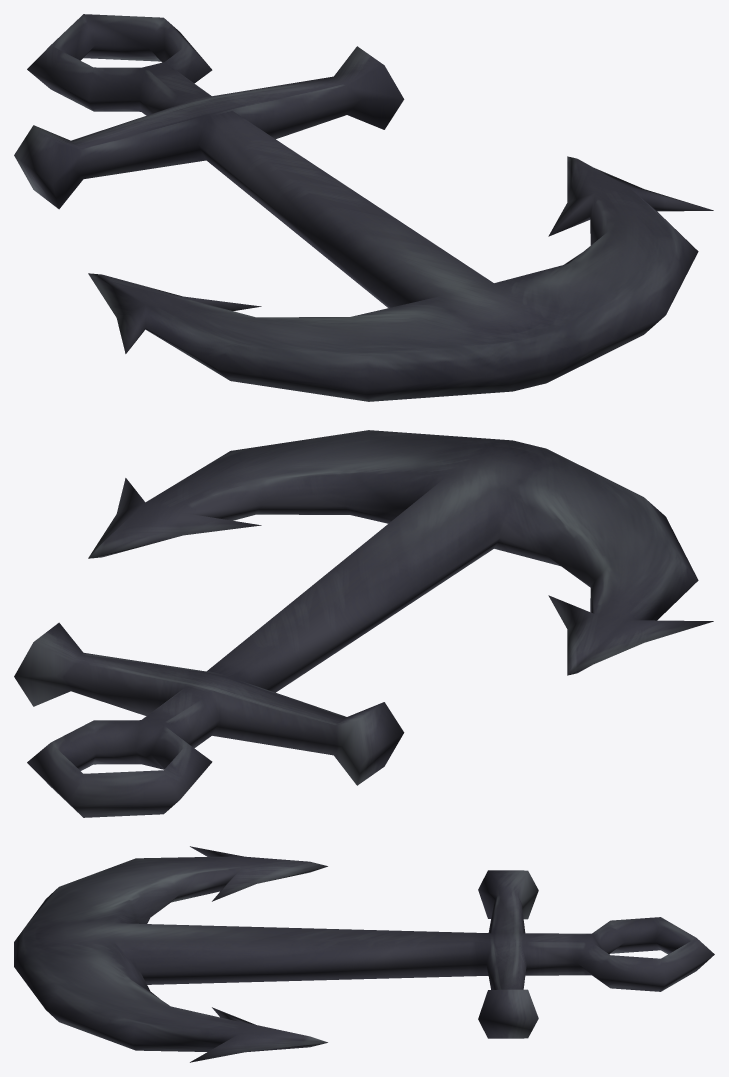
File: anchor.FBX
The picture shows the model from 3 angles, top to bottom: view 1: azimuth 30°, elevation 25°; view 2: azimuth 150°, elevation 25°; view 3: azimuth 270°, elevation 25°; orthographic projection. The views are drawn at different scales.
Visible parts, largest first — view 1: anchor; view 2: anchor; view 3: anchor.
Boxes of the visible parts, <box> form: anchor: <box>14,14,713,401</box>; anchor: <box>14,430,713,817</box>; anchor: <box>14,846,714,1062</box>.
Size of the model in its own units: 97.68 by 10.27 by 133.
Materials: 1 (1 with a texture image).
